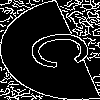C: (25, 25, 100, 72)
